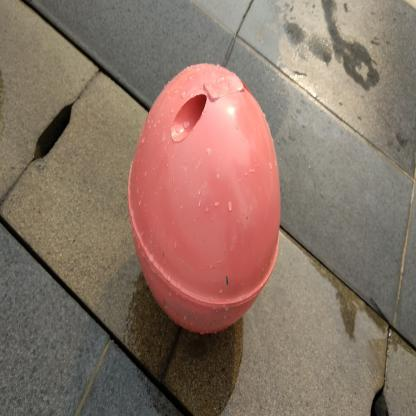red_buoy: (122, 61, 285, 347)
